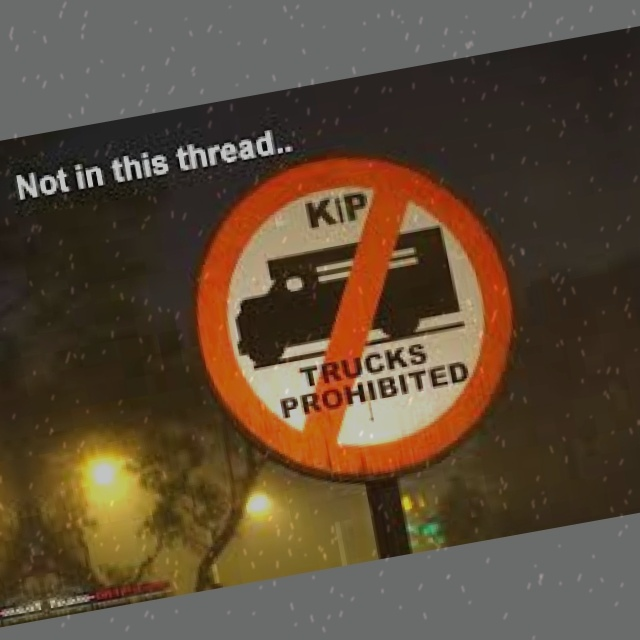Truck_Prohibited: (167, 128, 552, 508)
